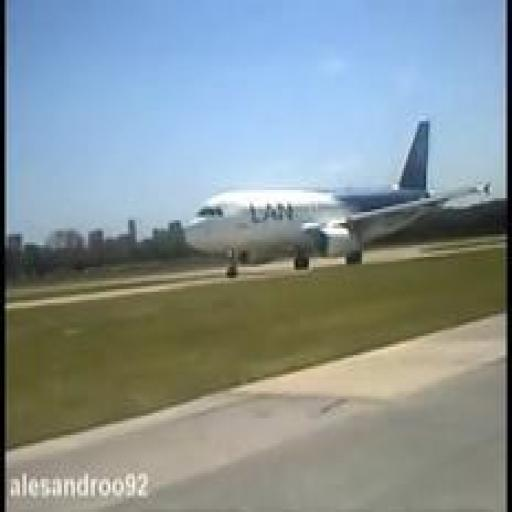aircraft: (186, 121, 492, 281)
